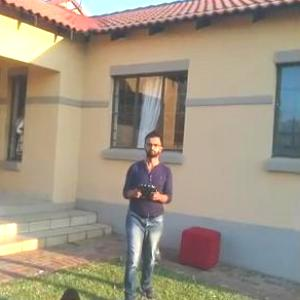follow: (117, 126, 178, 299)
